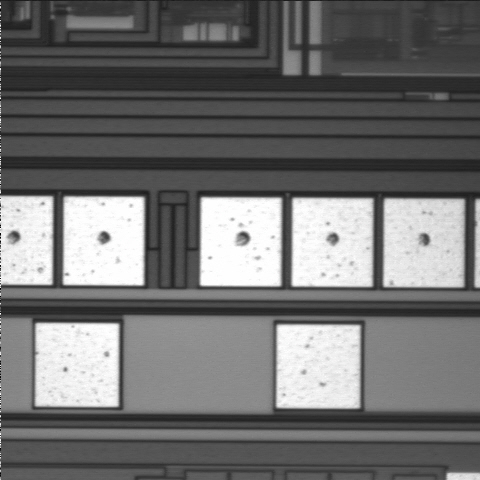pad: (200, 197, 282, 286), (292, 198, 373, 287), (63, 197, 144, 285), (383, 199, 464, 287), (35, 323, 119, 407), (276, 325, 360, 408)
